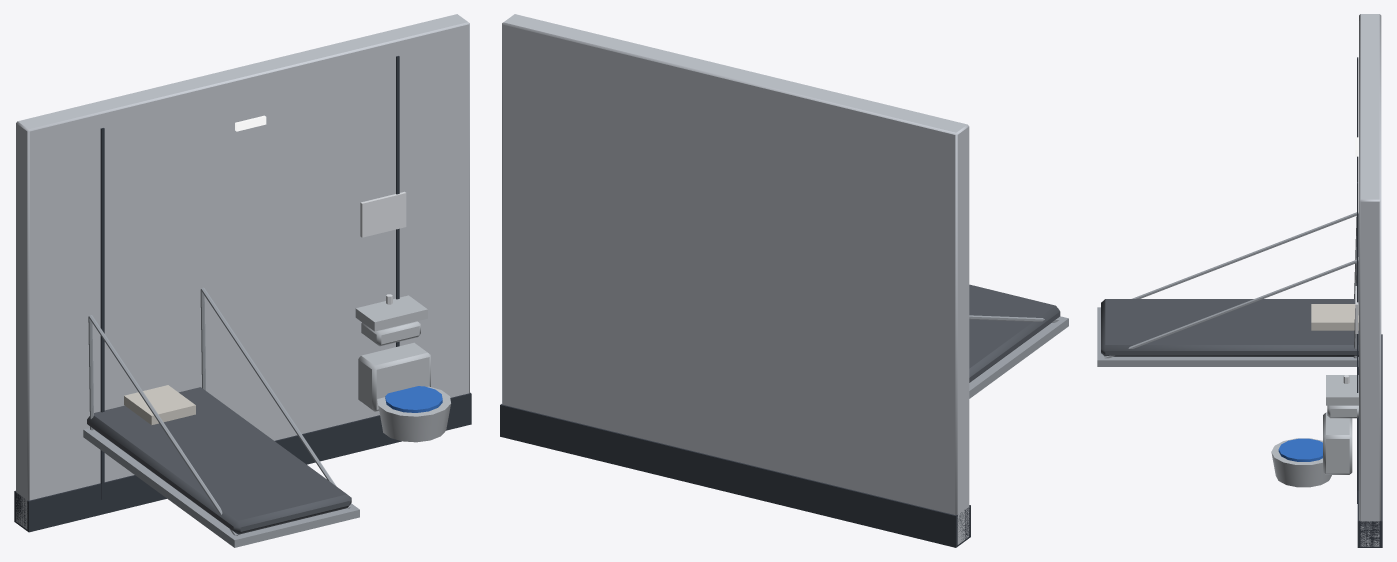
The model's file is cell_wall_cot_toilet.glb.
3 views of the same model, side by side, from view 1: azimuth 30°, elevation 25°; view 2: azimuth 150°, elevation 25°; view 3: azimuth 270°, elevation 25° (orthographic). The views are drawn at different scales.
Parts seen in each view (by area): view 1: cell_wall_cot_toilet; view 2: cell_wall_cot_toilet; view 3: cell_wall_cot_toilet.
Boxes of the visible parts, left/top/right/bottom form: cell_wall_cot_toilet: left=14, top=14, right=471, bottom=547; cell_wall_cot_toilet: left=500, top=14, right=1068, bottom=547; cell_wall_cot_toilet: left=1097, top=14, right=1382, bottom=547.
Bounding box in the file's own units: 3 × 2.6 × 1.94.
